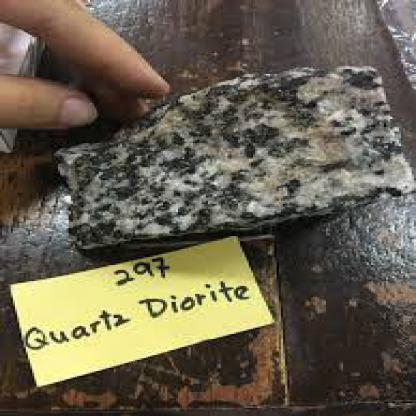Igneous_Diorite: (58, 58, 414, 246)
